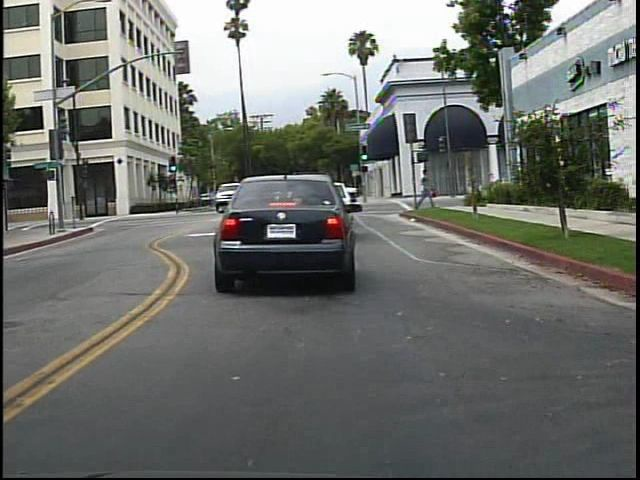person: (416, 168, 438, 215)
